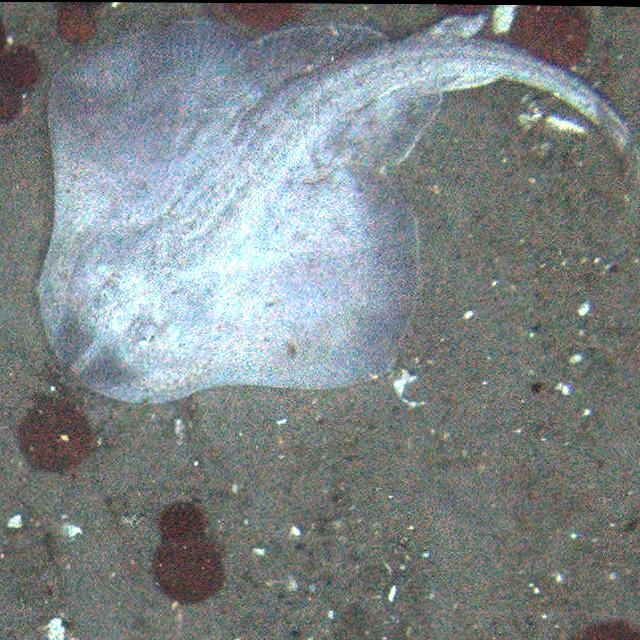skate: (36, 20, 636, 398)
